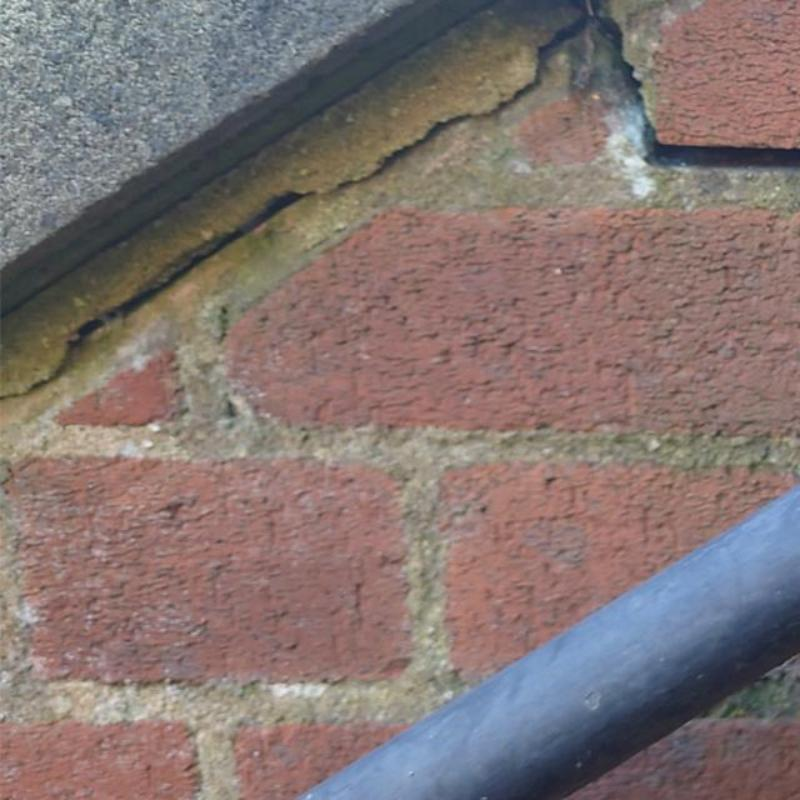pothole: (158, 114, 491, 287), (588, 0, 799, 170), (0, 289, 163, 401), (492, 0, 586, 112)
